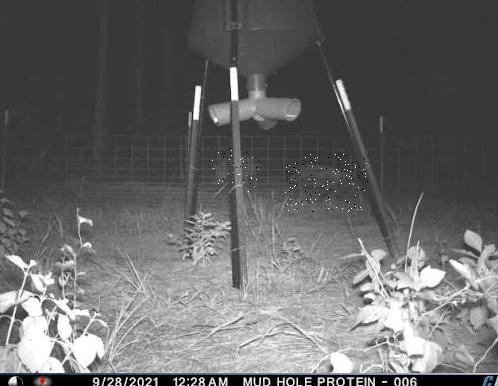Hog: (285, 154, 368, 212), (211, 148, 260, 192)
